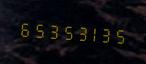five: (115, 22, 128, 47), (31, 17, 44, 41), (59, 19, 72, 43)
one: (87, 21, 100, 45)
six: (17, 16, 30, 40)
three: (45, 18, 58, 42), (73, 20, 86, 44), (101, 22, 114, 46)
